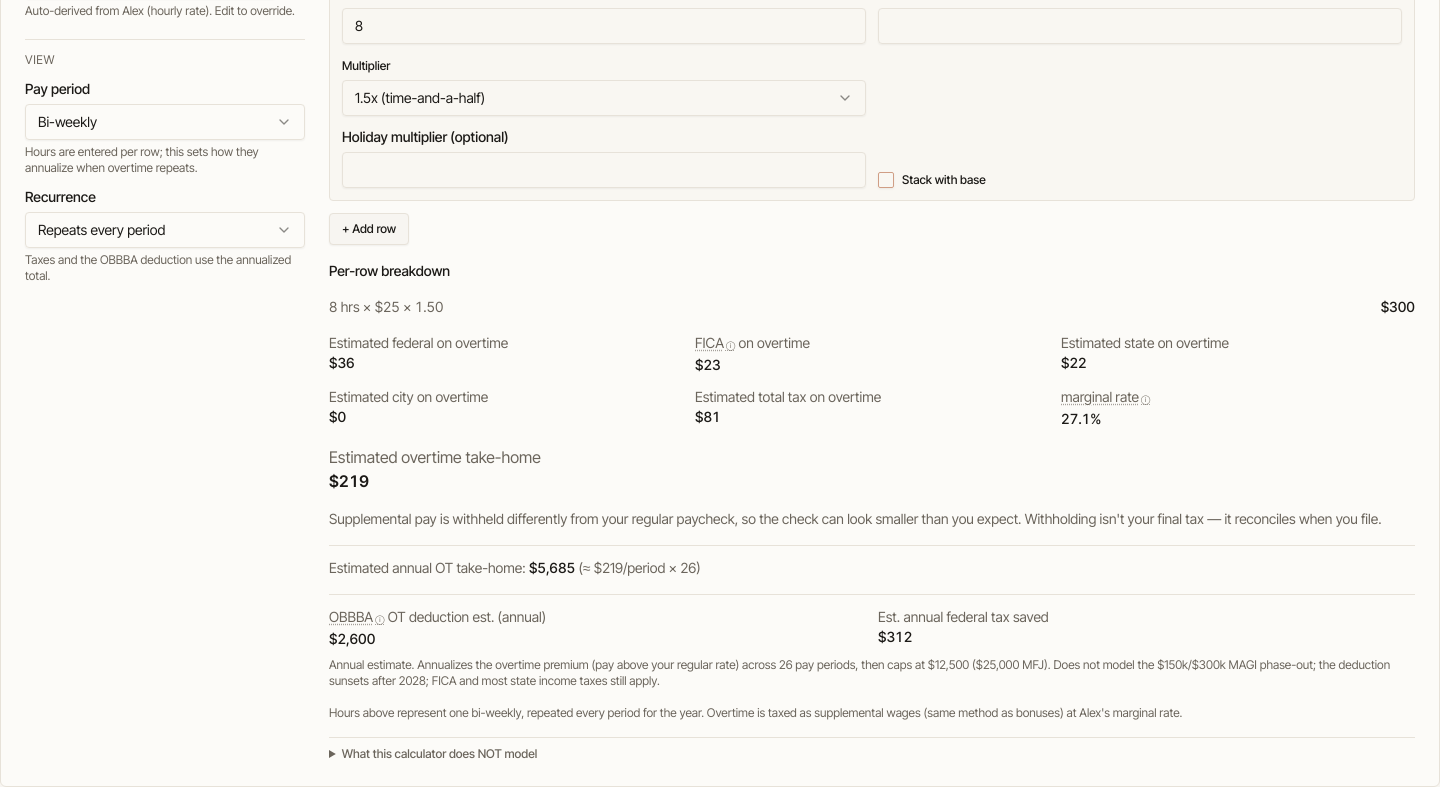
Test: OvertimeCard › exposes a "What this calculator does NOT model" disclosure (family idiom)
(page scrolled)
Click the heading "What this calculator does NOT model": (439, 753) 342,746 -> 537,760
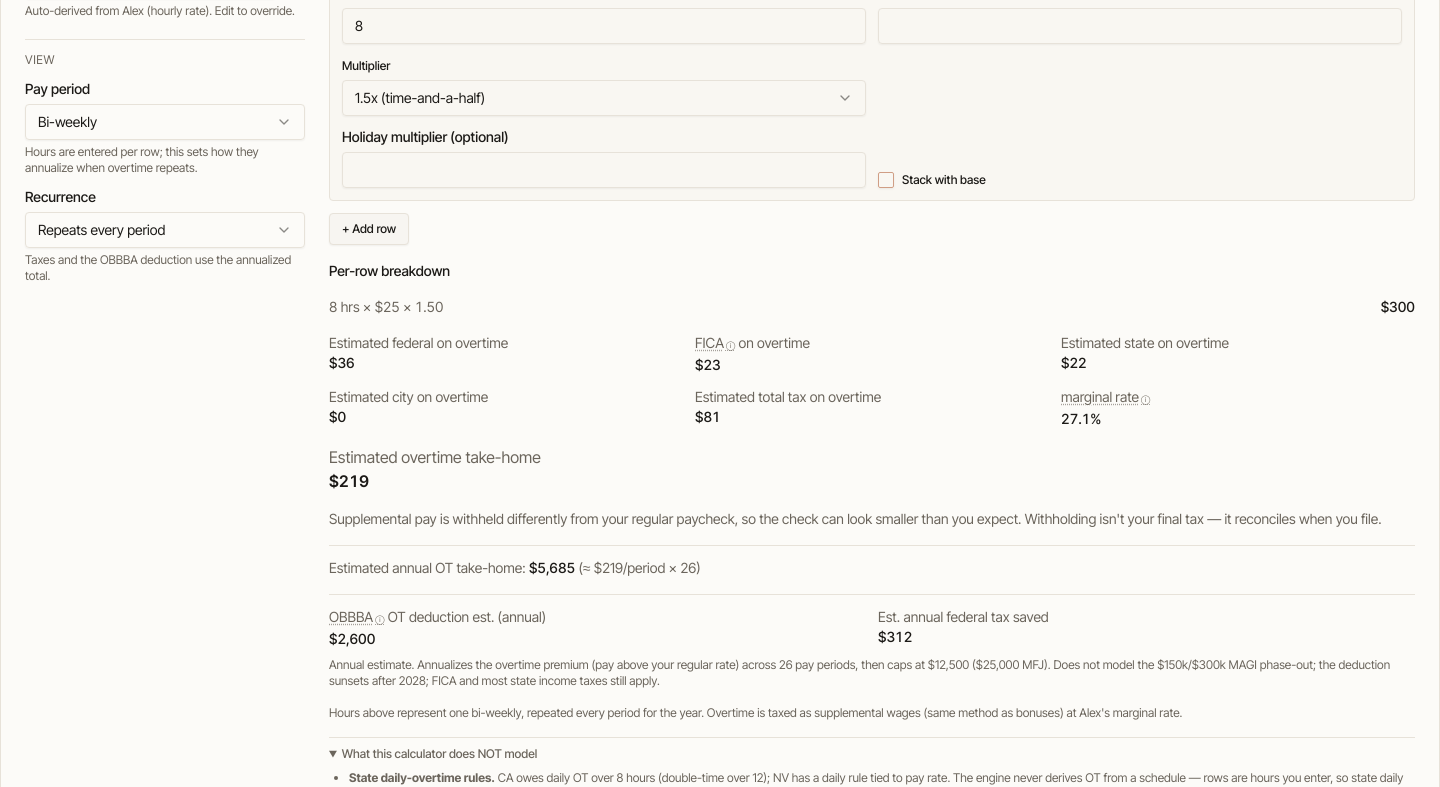
Result: the text "State daily-overtime rules." is shown at 349,770 -> 495,784
